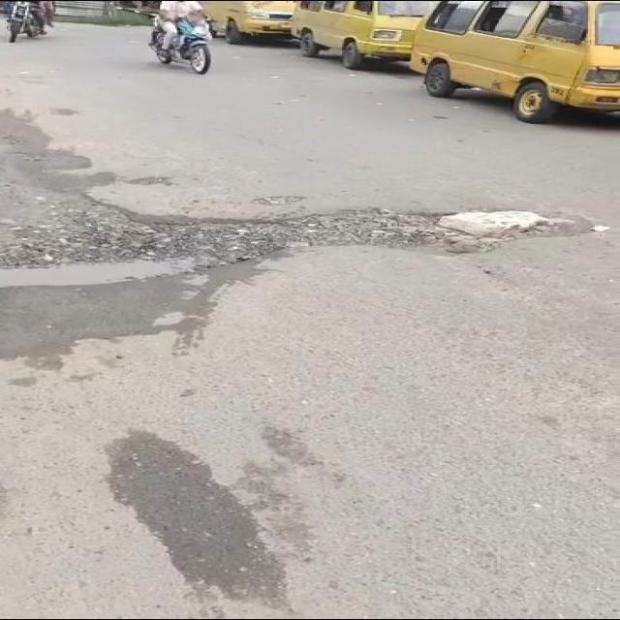lubang: (0, 202, 597, 287), (253, 196, 308, 209)
